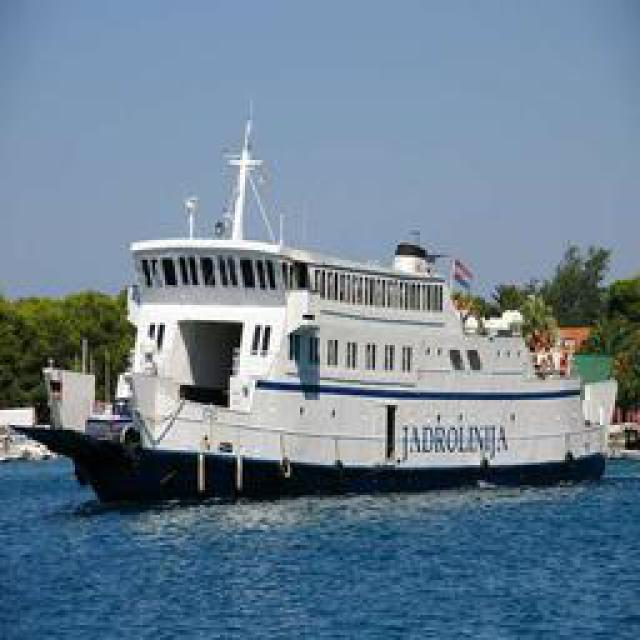Ship: (84, 105, 614, 503)
